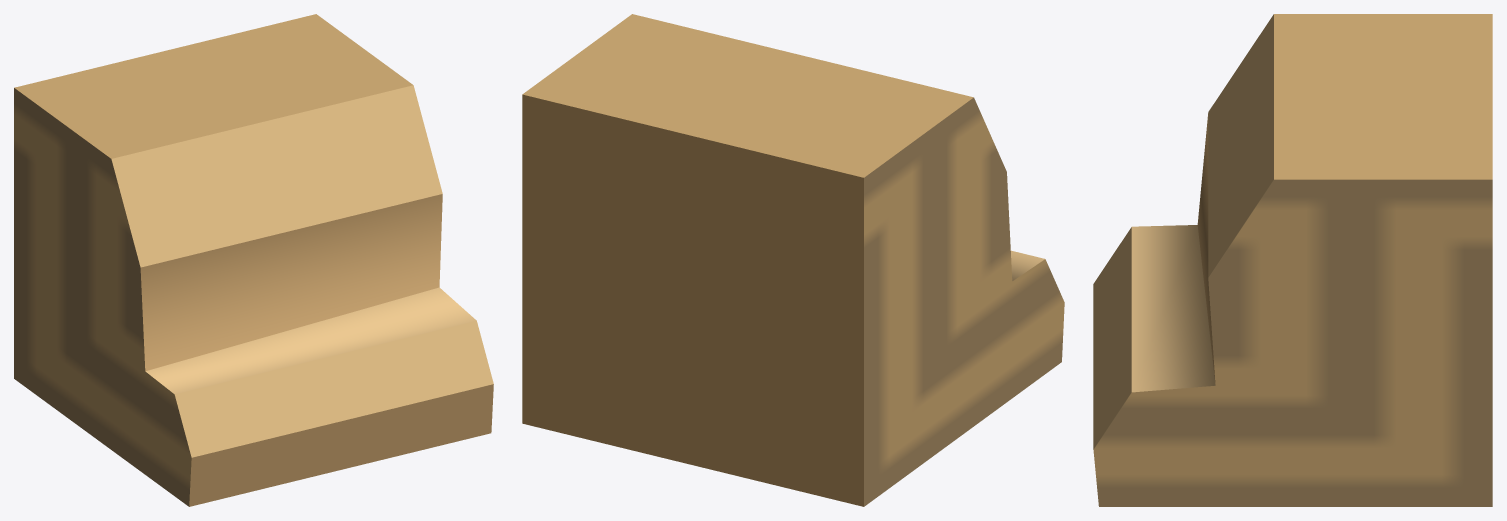
File: ST_Env_Pillar_Raised_02.fbx
The picture shows the model from 3 angles, left to right: view 1: azimuth 30°, elevation 25°; view 2: azimuth 150°, elevation 25°; view 3: azimuth 270°, elevation 25°; orthographic projection. The views are drawn at different scales.
Parts seen in each view (by area): view 1: ST_Env_Pillar_Raised_02; view 2: ST_Env_Pillar_Raised_02; view 3: ST_Env_Pillar_Raised_02.
Part boxes in pixels (box(x1,y1,x2,y2)): ST_Env_Pillar_Raised_02: box(14, 14, 493, 506); ST_Env_Pillar_Raised_02: box(522, 14, 1064, 506); ST_Env_Pillar_Raised_02: box(1093, 14, 1492, 506).
Bounding box in the file's own units: 0.897 × 0.8256 × 0.9125.
